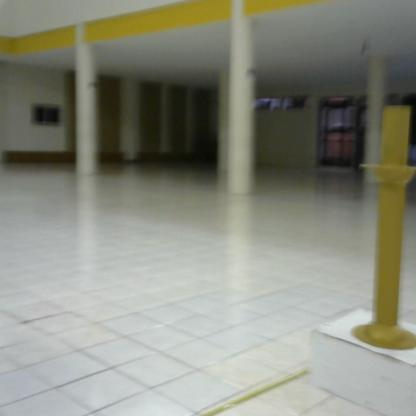pole: (343, 101, 416, 354)
